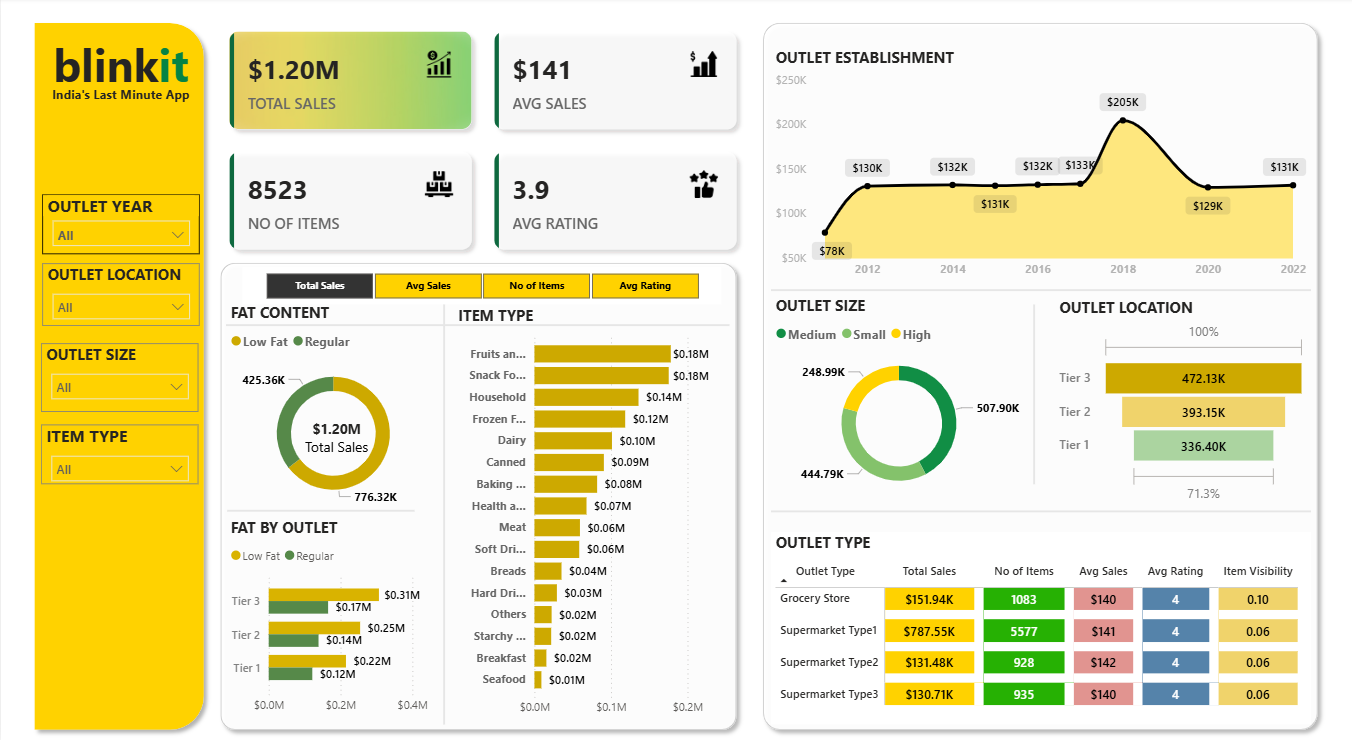

What the dashboard file says about the page in this screenshot:
{"tool":"powerbi","page":{"name":"HOME","canvas":[1450,800],"ordinal":0},"visuals":[{"type":"shape","box":[26.8,18.8,199.7,776.1],"z":0},{"type":"textbox","box":[44.2,34.9,168.9,80.4],"z":1000},{"type":"textbox","box":[44.2,89.8,168.9,37.5],"z":2000},{"type":"cardVisual","fields":{"Data":["BlinkIT Grocery Data.Total Sales","BlinkIT Grocery Data.Avg Sales","BlinkIT Grocery Data.No of Items","BlinkIT Grocery Data.Avg Rating"]},"box":[226.5,18.8,581.8,270.8],"z":3000},{"type":"shape","box":[226.5,276.1,571,518.8],"z":4000},{"type":"slicer","fields":{"Values":["Matrices .Matrices "]},"box":[258.7,289.5,513.4,40.2],"z":5000},{"type":"donutChart","title":"FAT CONTENT","fields":{"Y":["BlinkIT Grocery Data.Total Sales"],"Category":["BlinkIT Grocery Data.Item Fat Content"]},"box":[241.3,327.1,230.6,230.6],"z":6000},{"type":"cardVisual","fields":{"Data":["BlinkIT Grocery Data.Total Sales"]},"box":[308.3,435.7,103.2,65.7],"z":7000},{"type":"clusteredBarChart","title":"FAT BY OUTLET","fields":{"Y":["BlinkIT Grocery Data.Total Sales"],"Category":["BlinkIT Grocery Data.Outlet Location Type"],"Series":["BlinkIT Grocery Data.Item Fat Content"]},"box":[241.3,557.6,230.6,219.8],"z":8000},{"type":"barChart","title":"ITEM TYPE","fields":{"Y":["BlinkIT Grocery Data.Total Sales"],"Category":["BlinkIT Grocery Data.Item Type"]},"box":[485.3,329.8,296.2,450.4],"z":9000},{"type":"shape","box":[242.6,538.9,201.1,24.1],"z":10000},{"type":"shape","box":[465.1,329.8,20.1,450.4],"z":11000},{"type":"shape","box":[241.3,343.2,540.2,17.4],"z":12000},{"type":"shape","box":[808.3,18.8,612.6,776.1],"z":13000},{"type":"lineChart","title":"OUTLET ESTABLISHMENT","fields":{"Category":["BlinkIT Grocery Data.Outlet Establishment Year"],"Y":["BlinkIT Grocery Data.Total Sales"]},"box":[825.7,53.6,579.1,256],"z":14000},{"type":"donutChart","title":"OUTLET SIZE","fields":{"Y":["BlinkIT Grocery Data.Total Sales"],"Category":["BlinkIT Grocery Data.Outlet Size"]},"box":[825.7,319,274.8,225.2],"z":15000},{"type":"shape","box":[825.7,309.7,579.1,9.4],"z":16000},{"type":"shape","box":[1100.5,329.8,14.7,193],"z":17000},{"type":"funnel","title":"OUTLET LOCATION","fields":{"Y":["Sum(BlinkIT Grocery Data.Sales)"],"Category":["BlinkIT Grocery Data.Outlet Location Type"]},"box":[1130,321.7,274.8,225.2],"z":18000},{"type":"shape","box":[825.7,545.6,579.1,12.1],"z":19000},{"type":"pivotTable","title":"OUTLET TYPE","fields":{"Rows":["BlinkIT Grocery Data.Outlet Type"],"Values":["BlinkIT Grocery Data.Total Sales","BlinkIT Grocery Data.No of Items","BlinkIT Grocery Data.Avg Sales","BlinkIT Grocery Data.Avg Rating","Avg(BlinkIT Grocery Data.Item Visibility)"]},"box":[825.7,573.7,579.1,206.4],"z":20000},{"type":"slicer","title":"OUTLET LOCATION","fields":{"Values":["BlinkIT Grocery Data.Outlet Location Type"]},"box":[44.2,285.5,168.9,67],"z":21000},{"type":"slicer","title":"OUTLET SIZE","fields":{"Values":["BlinkIT Grocery Data.Outlet Size"]},"box":[42.9,371.3,168.9,73.7],"z":22000},{"type":"slicer","title":"ITEM TYPE","fields":{"Values":["BlinkIT Grocery Data.Item Type"]},"box":[42.9,458.4,168.9,64.3],"z":23000},{"type":"slicer","title":"OUTLET YEAR","fields":{"Values":["BlinkIT Grocery Data.Outlet Establishment Year"]},"box":[44.2,211.8,168.9,64.3],"z":23001}]}

Visuals, with their boxes in screenshot pixels (x1, y1, x2, y2), scaled from the page's 1450x800 canvas onto the 1352x740 screenshot:
shape: {"x1": 25, "y1": 17, "x2": 211, "y2": 735}
textbox: {"x1": 41, "y1": 32, "x2": 199, "y2": 107}
textbox: {"x1": 41, "y1": 83, "x2": 199, "y2": 118}
cardVisual - BlinkIT Grocery Data.Total Sales x BlinkIT Grocery Data.Avg Sales: {"x1": 211, "y1": 17, "x2": 754, "y2": 268}
shape: {"x1": 211, "y1": 255, "x2": 744, "y2": 735}
slicer - Matrices .Matrices : {"x1": 241, "y1": 268, "x2": 720, "y2": 305}
"FAT CONTENT" donutChart: {"x1": 225, "y1": 303, "x2": 440, "y2": 516}
cardVisual - BlinkIT Grocery Data.Total Sales: {"x1": 287, "y1": 403, "x2": 384, "y2": 464}
"FAT BY OUTLET" clusteredBarChart: {"x1": 225, "y1": 516, "x2": 440, "y2": 719}
"ITEM TYPE" barChart: {"x1": 453, "y1": 305, "x2": 729, "y2": 722}
shape: {"x1": 226, "y1": 498, "x2": 414, "y2": 521}
shape: {"x1": 434, "y1": 305, "x2": 452, "y2": 722}
shape: {"x1": 225, "y1": 317, "x2": 729, "y2": 334}
shape: {"x1": 754, "y1": 17, "x2": 1325, "y2": 735}
"OUTLET ESTABLISHMENT" lineChart: {"x1": 770, "y1": 50, "x2": 1310, "y2": 286}
"OUTLET SIZE" donutChart: {"x1": 770, "y1": 295, "x2": 1026, "y2": 503}
shape: {"x1": 770, "y1": 286, "x2": 1310, "y2": 295}
shape: {"x1": 1026, "y1": 305, "x2": 1040, "y2": 484}
"OUTLET LOCATION" funnel: {"x1": 1054, "y1": 298, "x2": 1310, "y2": 506}
shape: {"x1": 770, "y1": 505, "x2": 1310, "y2": 516}
"OUTLET TYPE" pivotTable: {"x1": 770, "y1": 531, "x2": 1310, "y2": 722}
"OUTLET LOCATION" slicer: {"x1": 41, "y1": 264, "x2": 199, "y2": 326}
"OUTLET SIZE" slicer: {"x1": 40, "y1": 343, "x2": 197, "y2": 412}
"ITEM TYPE" slicer: {"x1": 40, "y1": 424, "x2": 197, "y2": 483}
"OUTLET YEAR" slicer: {"x1": 41, "y1": 196, "x2": 199, "y2": 255}
